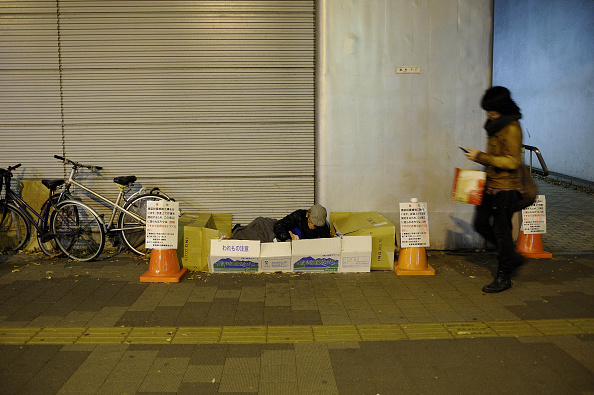deitado: (475, 101, 530, 280)
